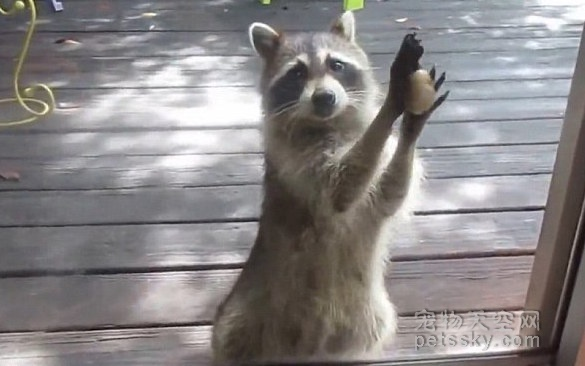raccoon: (203, 14, 458, 363)
